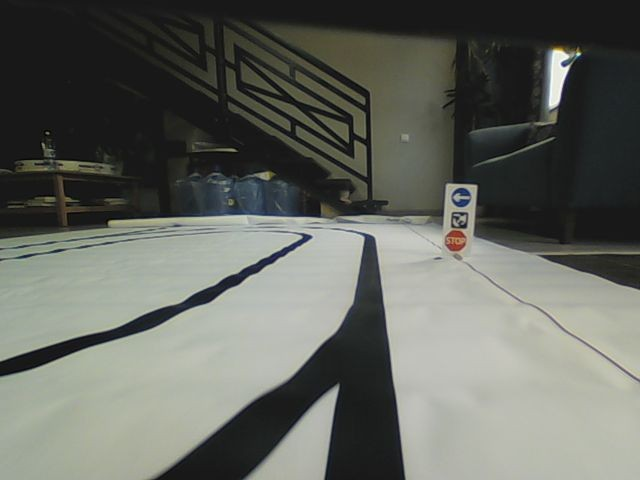Stop: (445, 229, 468, 250)
